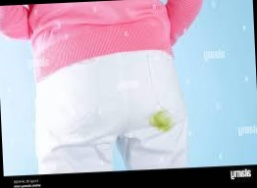earth: (148, 111, 171, 132)
